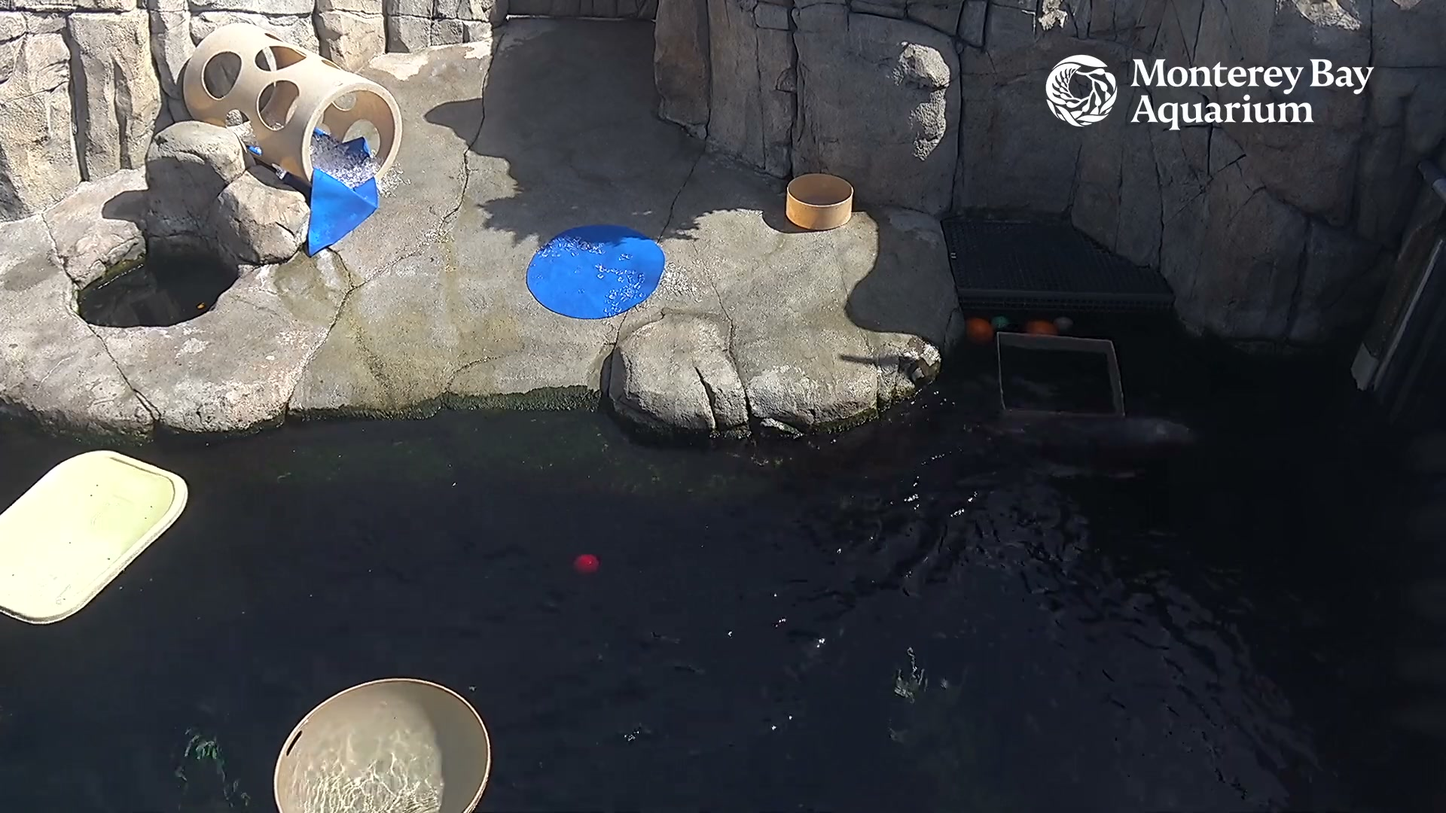Southern Sea Otter: (1019, 405, 1217, 465)
